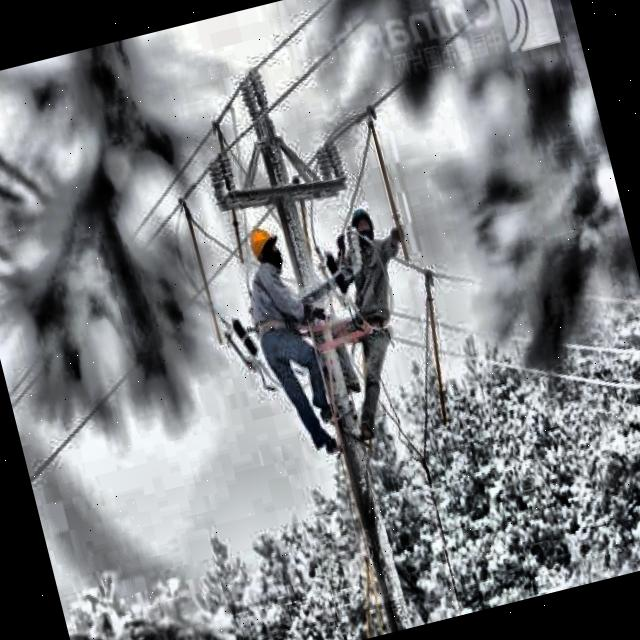helmet: (240, 220, 285, 278), (346, 202, 379, 252)
